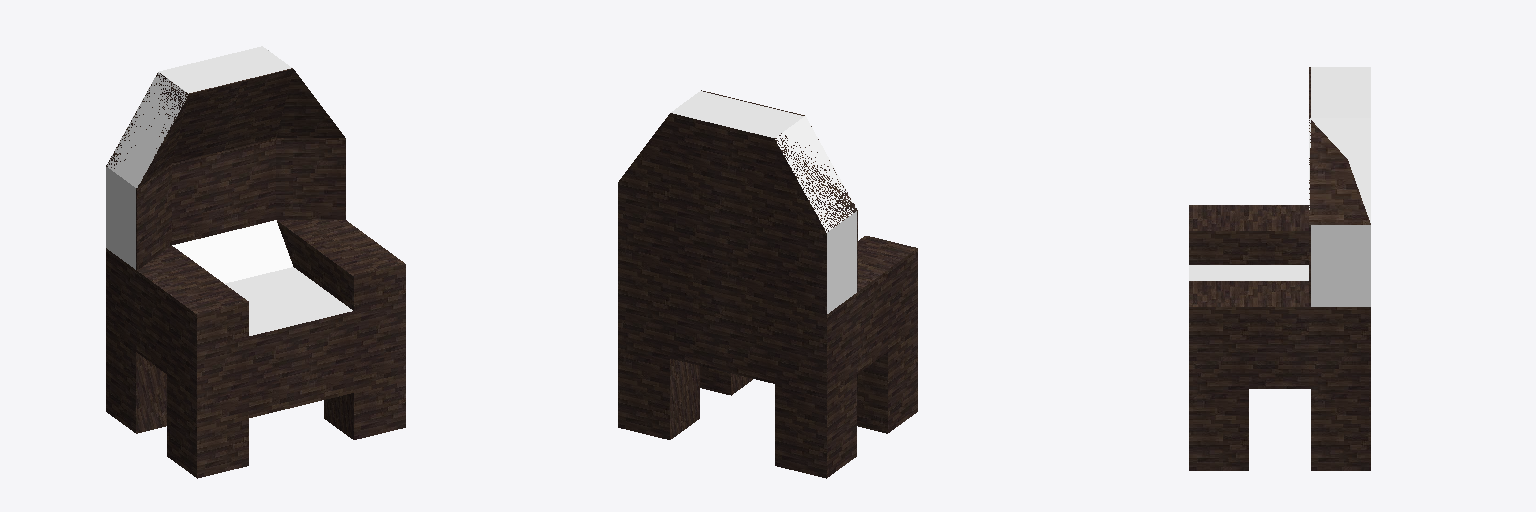
The picture shows the model from 3 angles: view 1: azimuth 30°, elevation 25°; view 2: azimuth 150°, elevation 25°; view 3: azimuth 270°, elevation 25°; orthographic projection.
Parts seen in each view (by area): view 1: Chair 1; view 2: Chair 1; view 3: Chair 1.
Boxes of the visible parts, x1,y1,x2,y2 form: Chair 1: [106, 46, 405, 478]; Chair 1: [618, 90, 917, 478]; Chair 1: [1189, 67, 1370, 470].
Bounding box in the file's own units: 2 × 3 × 1.51.
3 materials, 1 textured.